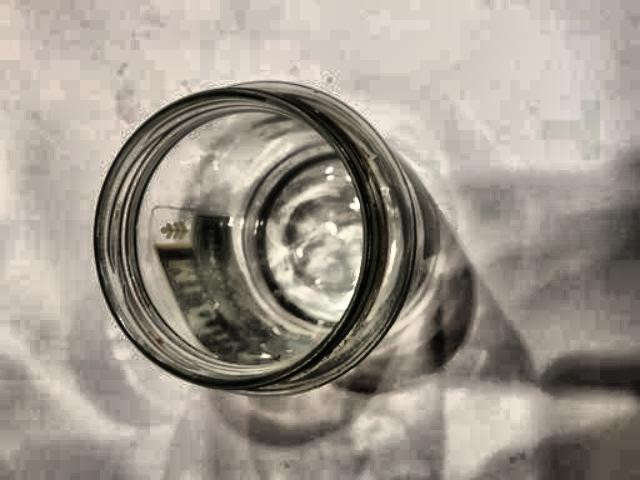Almennt: (82, 59, 459, 410)
